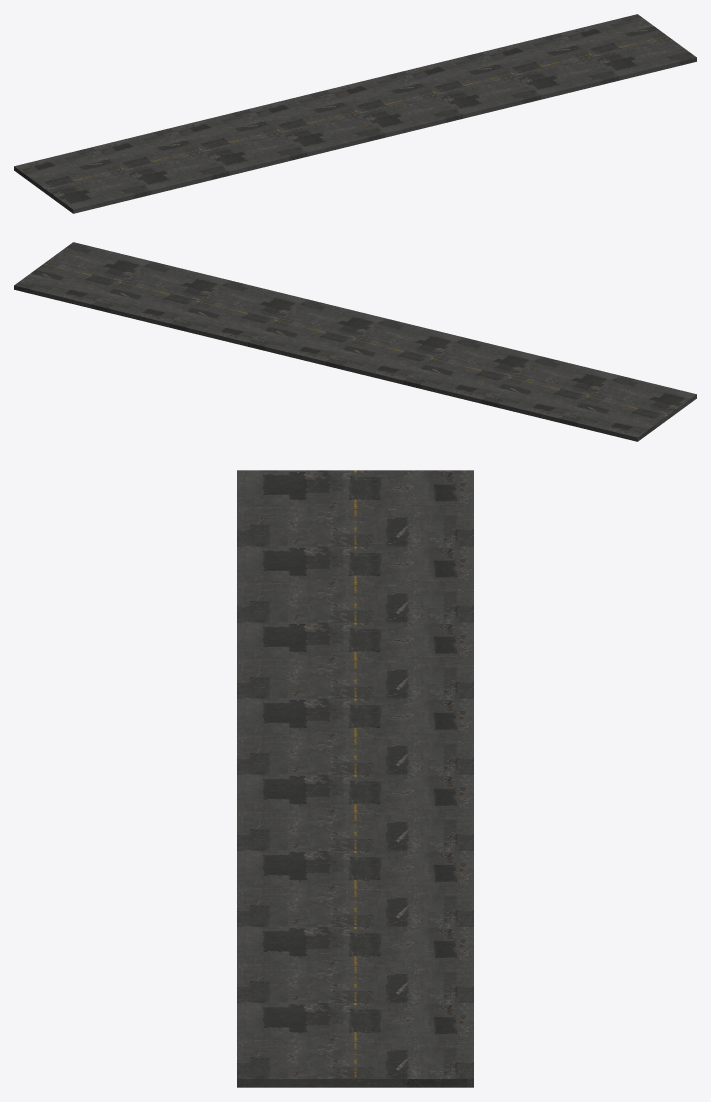
The model's file is Strada.obj.
3 renders of one model, top to bottom at view 1: azimuth 30°, elevation 25°; view 2: azimuth 150°, elevation 25°; view 3: azimuth 270°, elevation 25°, orthographic. The views are drawn at different scales.
Visible parts, largest first — view 1: Cube; view 2: Cube; view 3: Cube.
Part boxes in pixels (bbox=[...]): Cube: bbox=[14, 14, 696, 213]; Cube: bbox=[14, 242, 696, 441]; Cube: bbox=[237, 470, 473, 1087].
Bounding box in the file's own units: 43.31 × 0.2787 × 7.13.
